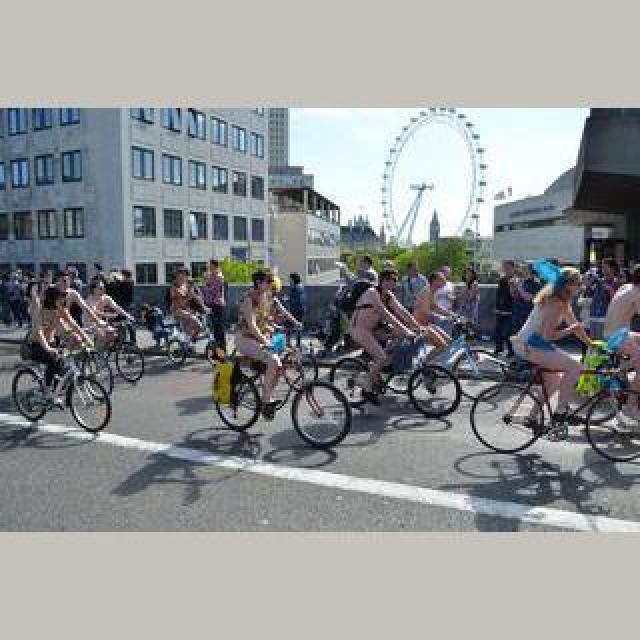MC-Bike: (516, 272, 594, 442), (232, 268, 302, 418), (346, 270, 420, 404), (28, 282, 94, 406), (88, 276, 136, 358), (412, 270, 462, 342), (168, 266, 208, 348), (198, 258, 226, 348)
Person: (470, 342, 640, 460), (210, 338, 352, 452), (324, 328, 460, 424), (376, 316, 508, 404), (12, 340, 112, 436), (80, 318, 144, 390), (166, 314, 228, 364)
